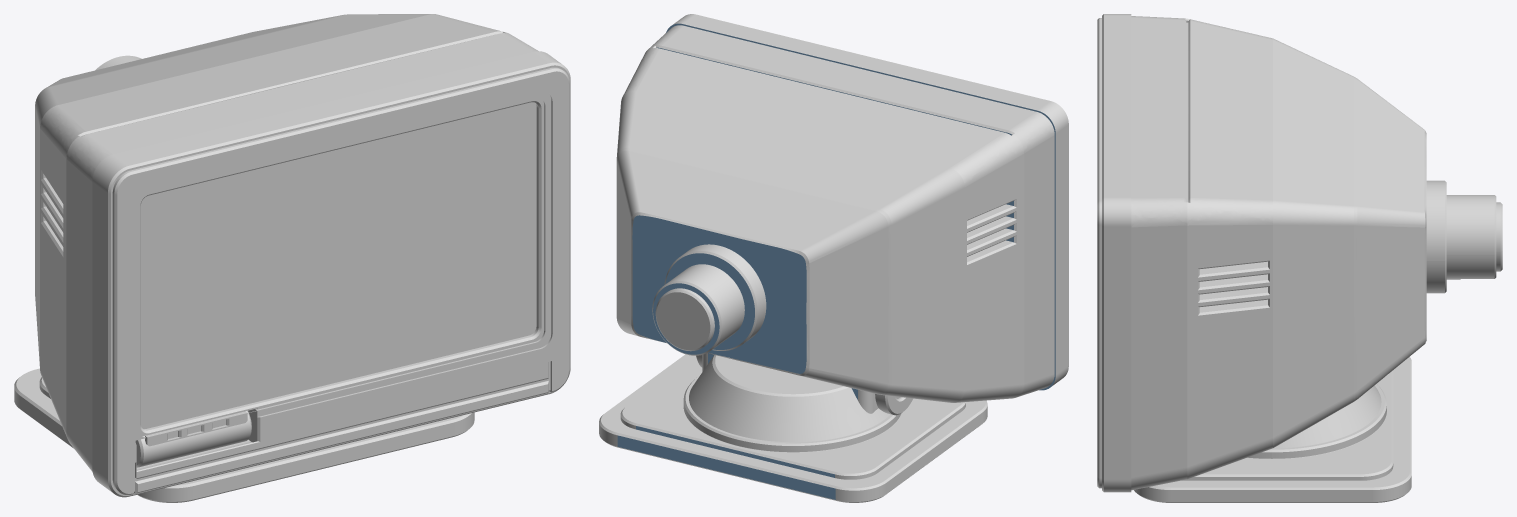
File: crt-monitor.glb
3 views of the same model, side by side, from view 1: azimuth 30°, elevation 25°; view 2: azimuth 150°, elevation 25°; view 3: azimuth 270°, elevation 25° (orthographic). The views are drawn at different scales.
Visible parts, largest first — view 1: geometry_0; view 2: geometry_0; view 3: geometry_0.
Boxes of the visible parts, x1,y1,x2,y2 form: geometry_0: [14, 14, 570, 502]; geometry_0: [599, 14, 1068, 502]; geometry_0: [1097, 14, 1502, 502].
Size of the model in its own units: 609 by 462 by 522.
